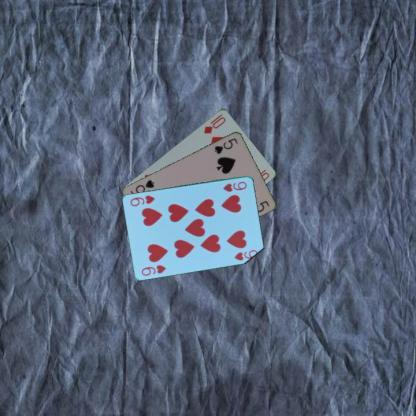10d: (201, 112, 227, 134)
5s: (212, 135, 239, 155)
9h: (221, 178, 248, 194), (139, 262, 168, 276)
